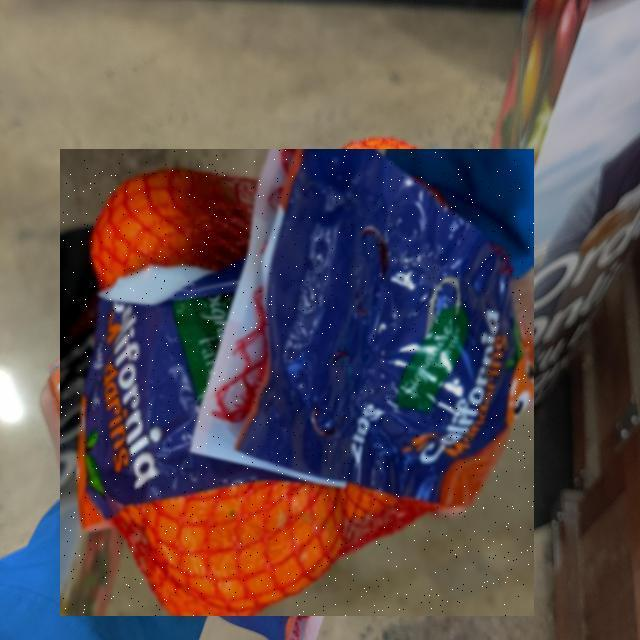Clementine: (61, 149, 535, 616)
